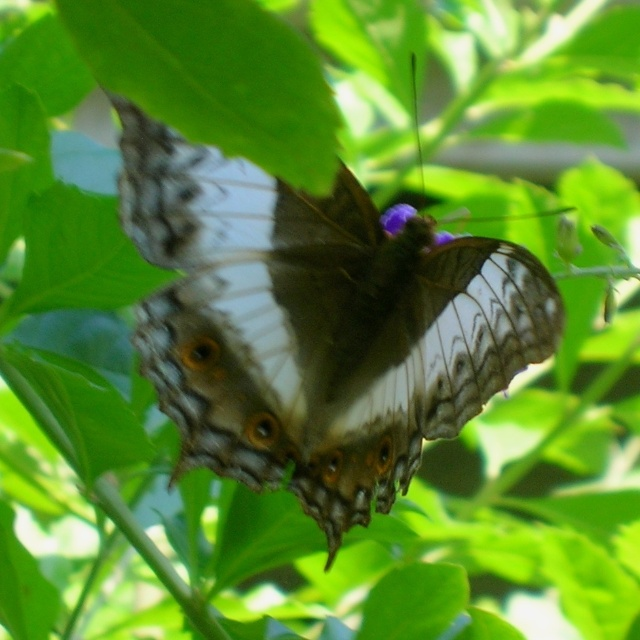Butterfly: (100, 83, 598, 565)
